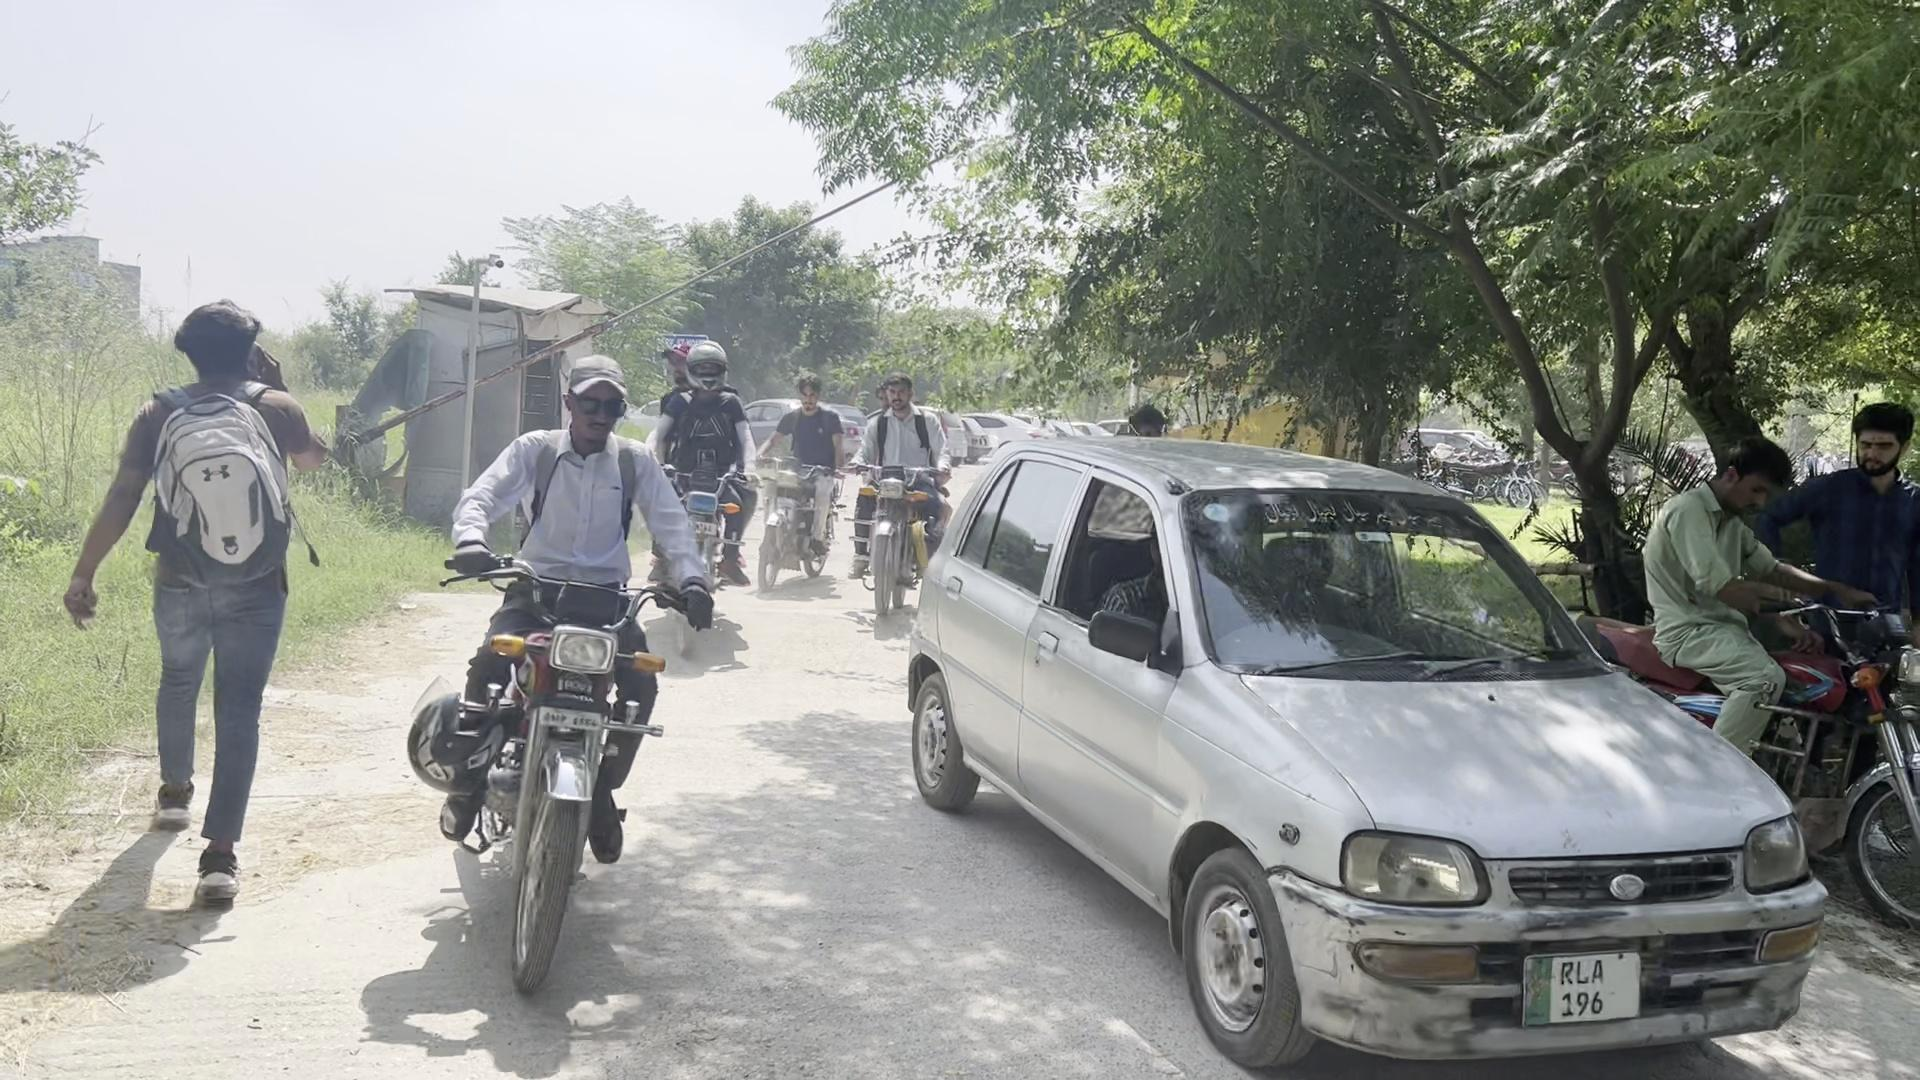windshield: (1180, 476, 1614, 680)
